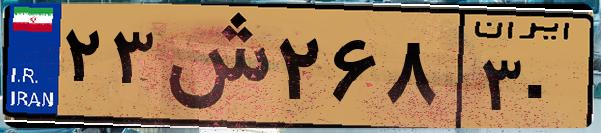0: (525, 38, 570, 115)
2: (270, 28, 330, 110), (57, 26, 110, 100)
3: (475, 38, 525, 113), (110, 28, 158, 98)
6: (330, 28, 385, 110)
8: (385, 28, 445, 110)
ش: (158, 12, 270, 120)
